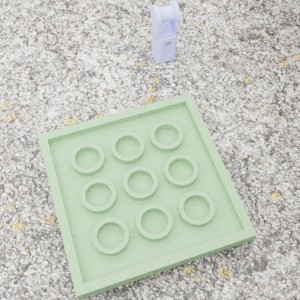lego: (37, 92, 257, 299), (150, 0, 180, 63)
